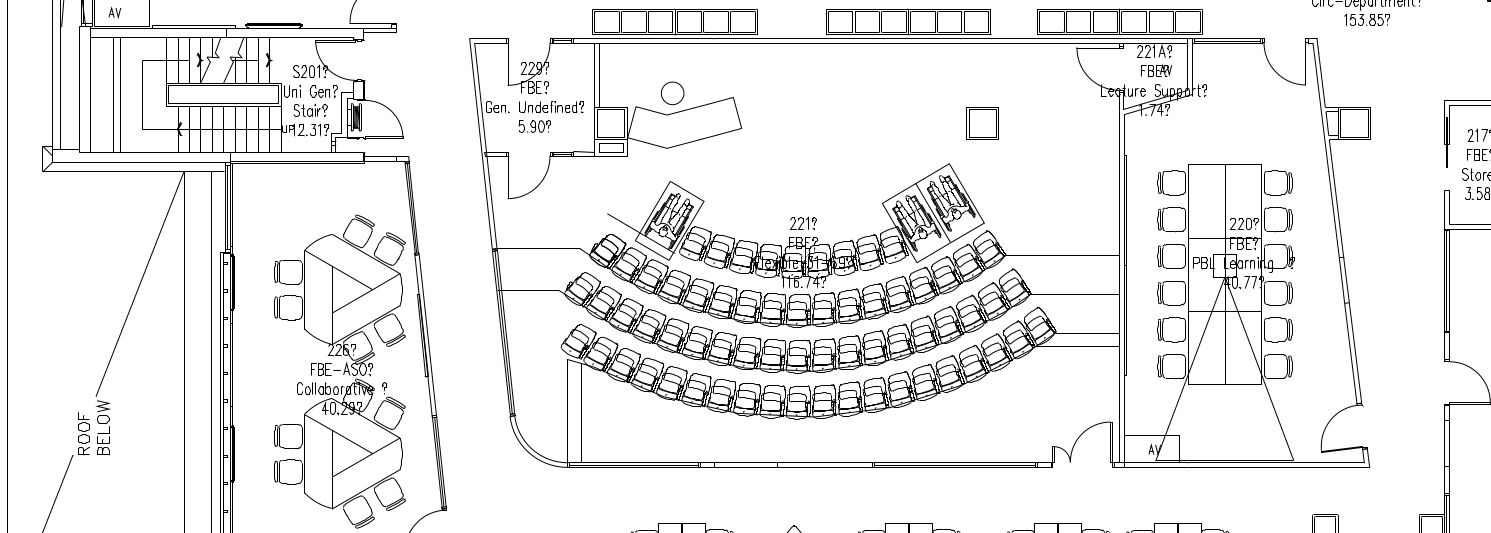door: (1046, 414, 1115, 470), (504, 44, 551, 92), (502, 154, 549, 202), (1072, 44, 1119, 92), (1263, 42, 1310, 90), (1312, 405, 1359, 453), (1444, 359, 1491, 407), (311, 39, 351, 84)
